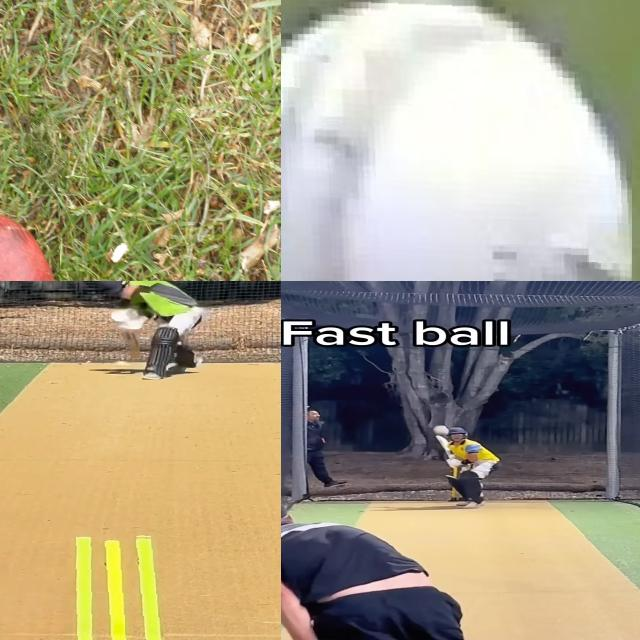Cricket ball: (281, 0, 632, 281), (432, 424, 449, 436)
Stumps: (63, 533, 165, 640)
